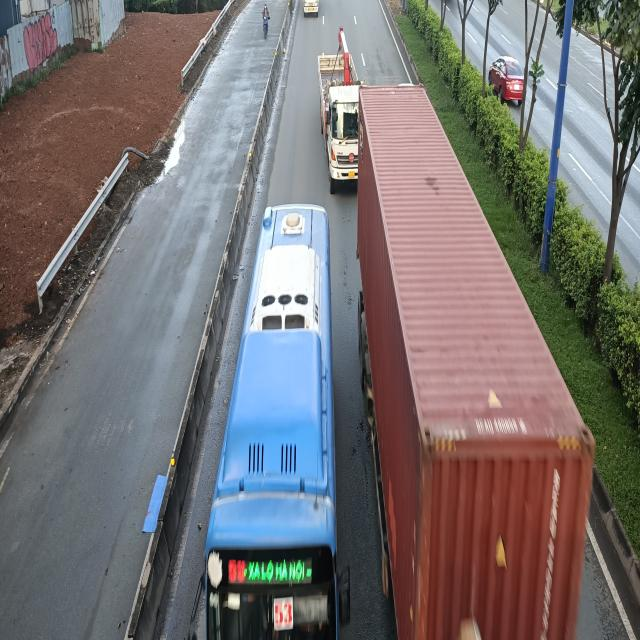coach: (188, 203, 350, 640)
container: (353, 35, 599, 636)
truck: (320, 24, 366, 190)
